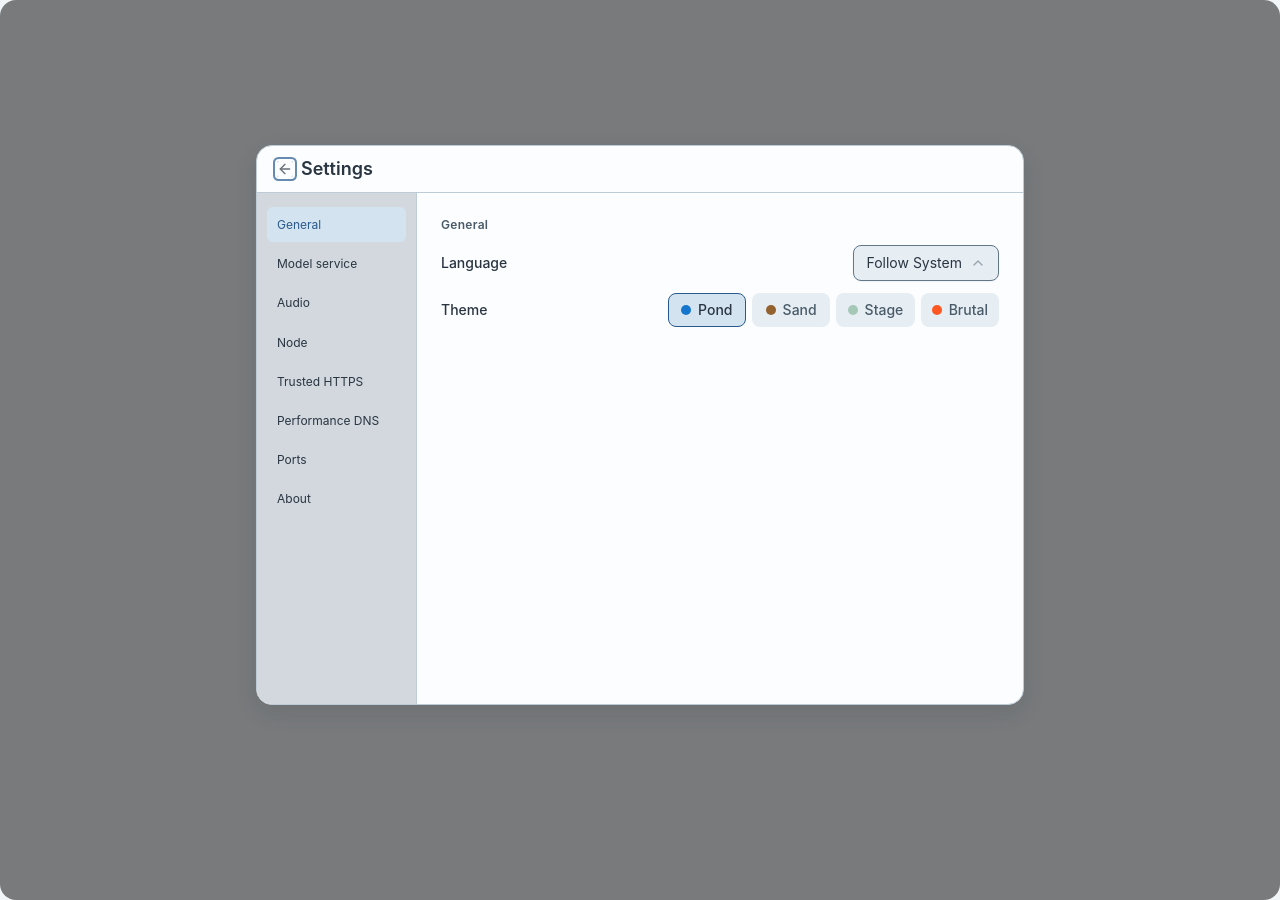
Test case: model service settings (#165) › rejects contradictory capacity before changing a key and retains correctable values
Step 1. Click the button "Model service" → (336, 264), box 267,246 -> 406,281
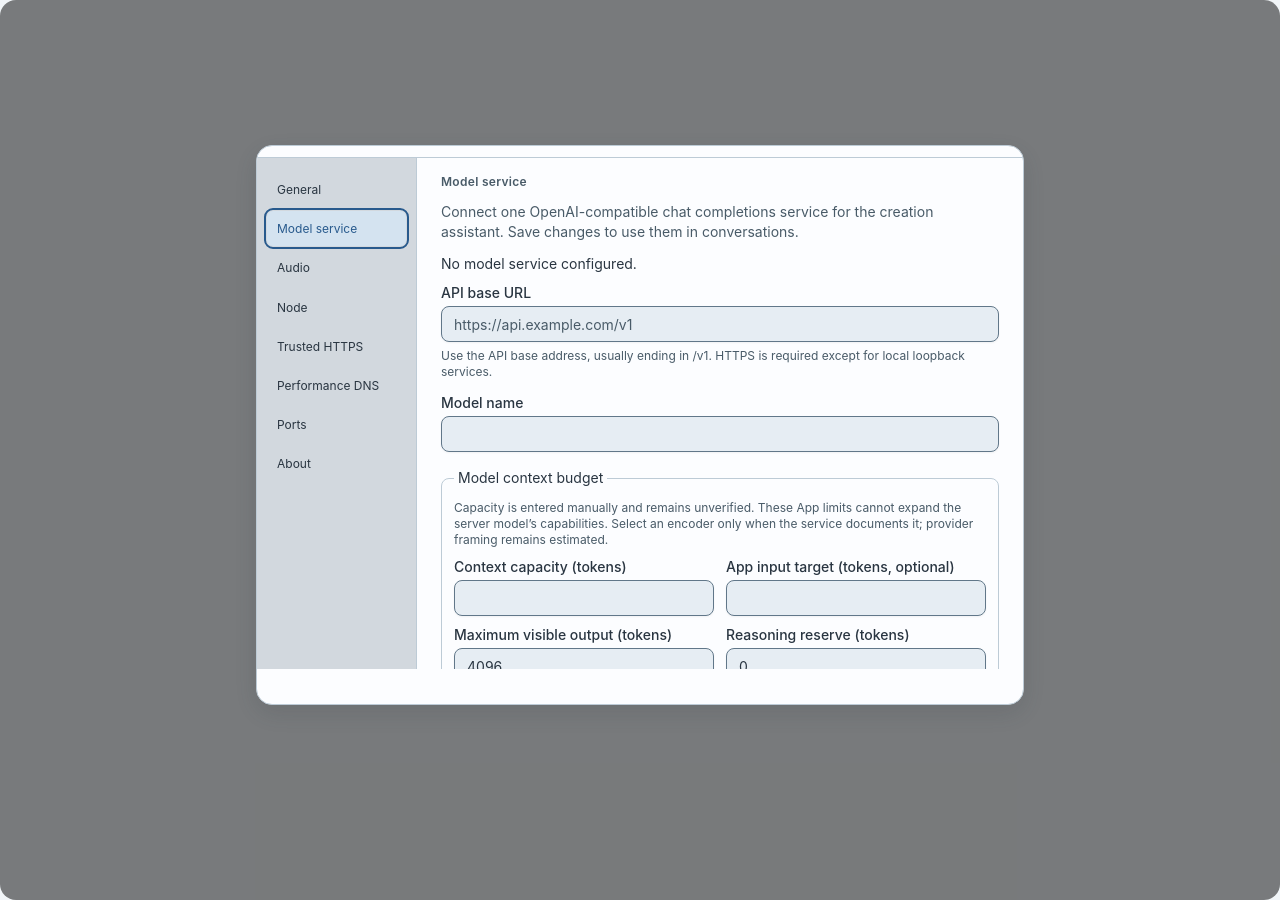
Step 2. Type "https://model.example/v1" into the field labelled "API base URL" → (720, 324), box 441,306 -> 999,342
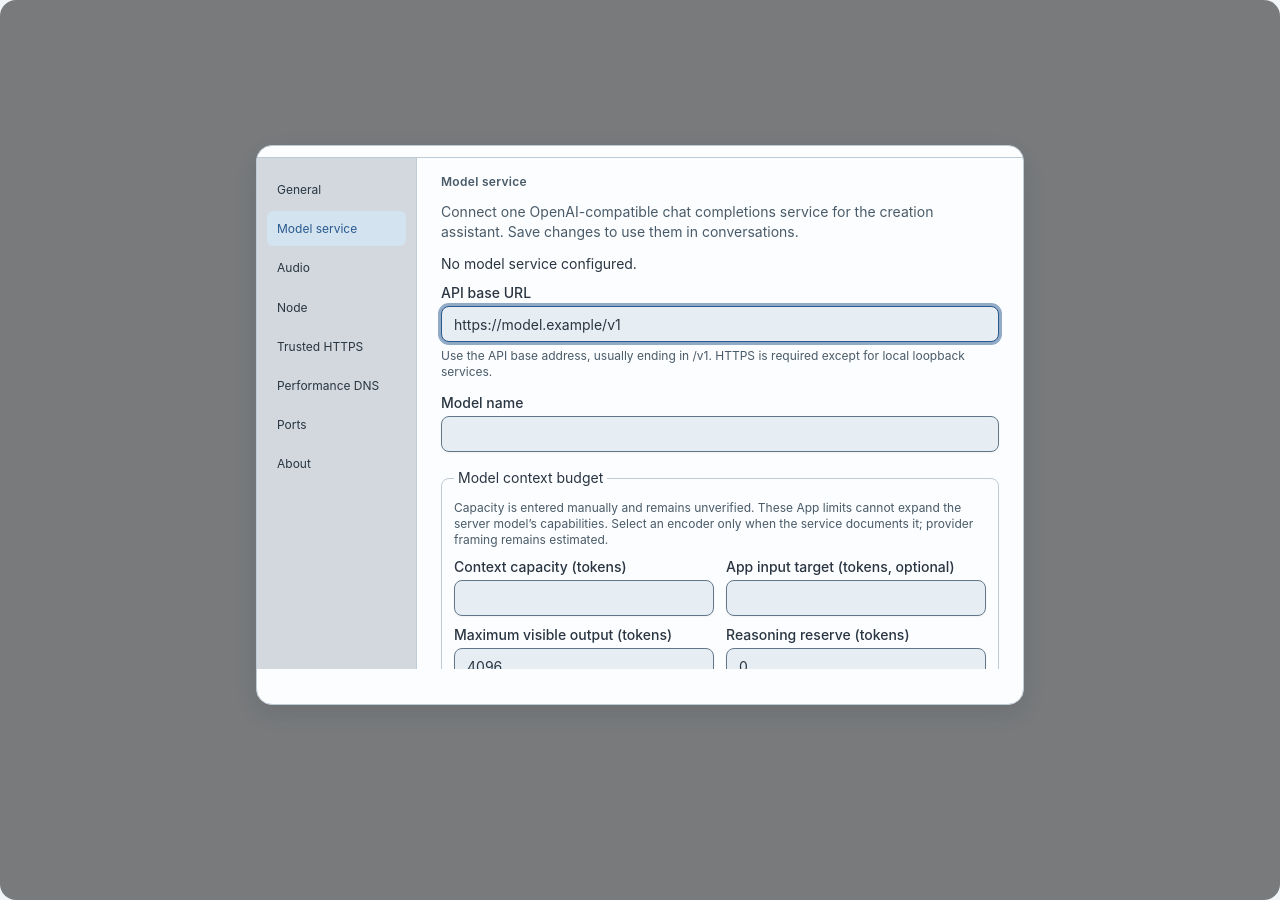
Step 3. Type "small" into the field labelled "Model name" → (720, 434), box 441,416 -> 999,452
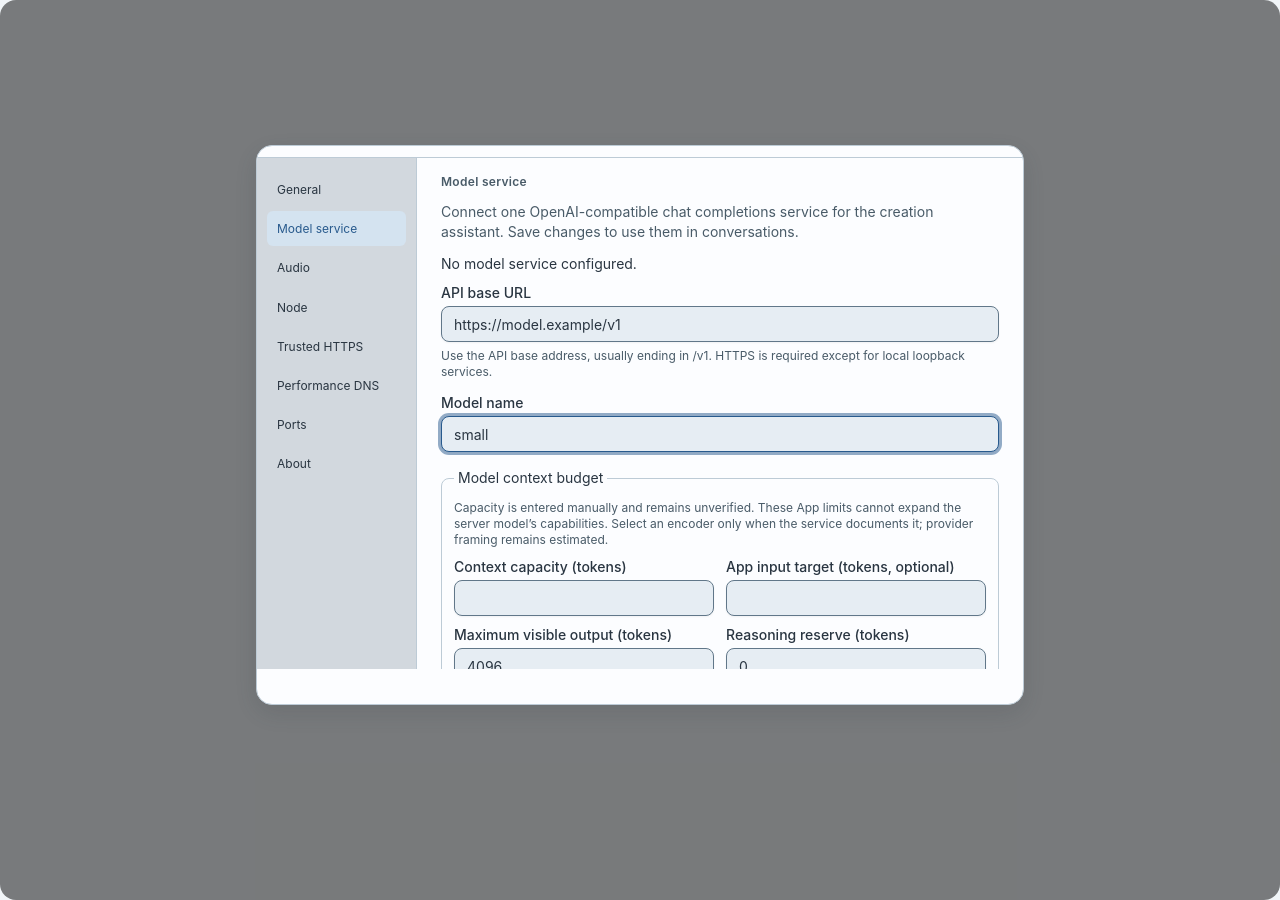
Step 4. Type "1000" into the number field labelled "Context capacity (tokens)" → (584, 598), box 454,580 -> 714,616
(page scrolled)
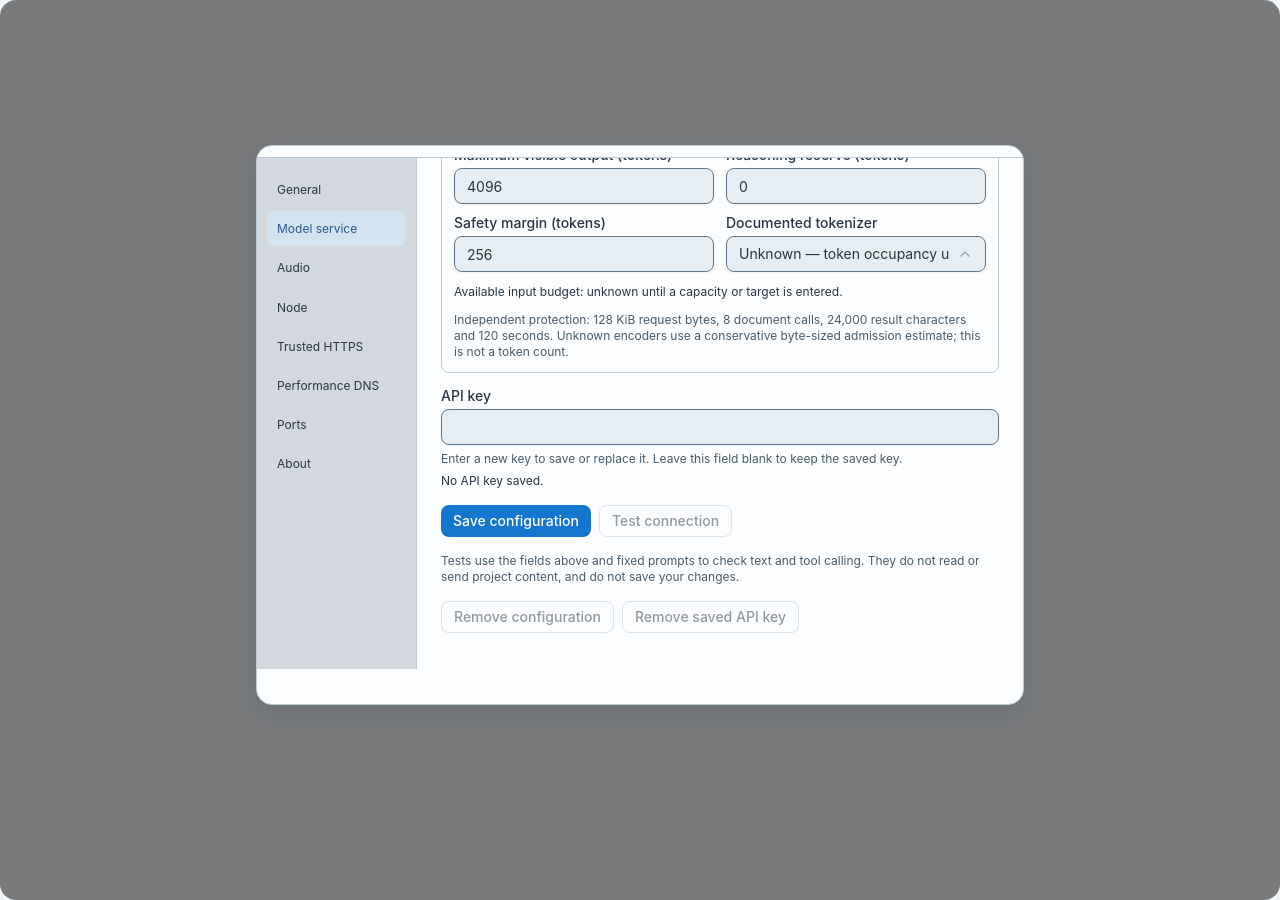
Step 5. Type "retain-key" into the password field labelled "API key" → (720, 427), box 441,409 -> 999,445
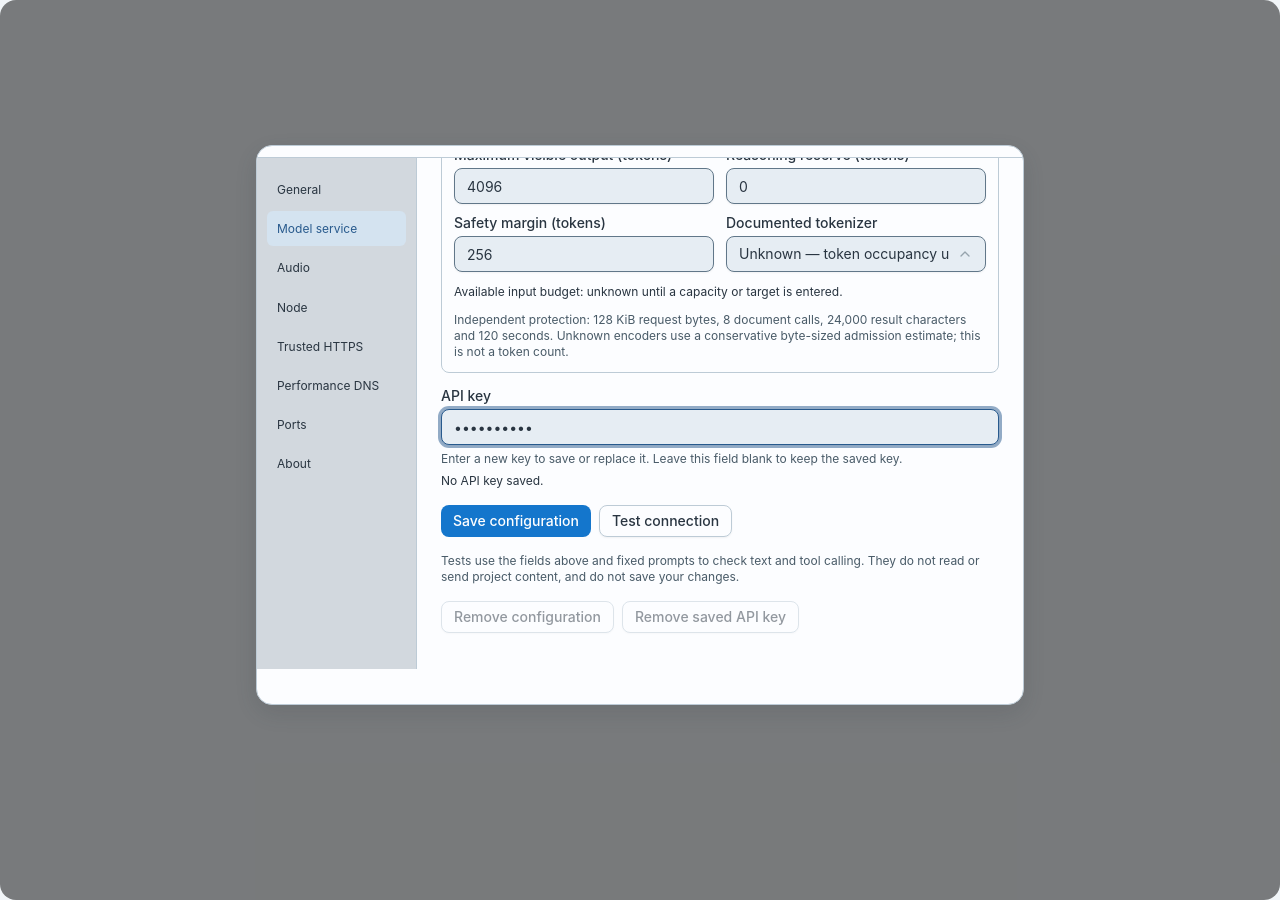
Step 6. Click the button "Save configuration" → (516, 521), box 441,505 -> 591,537
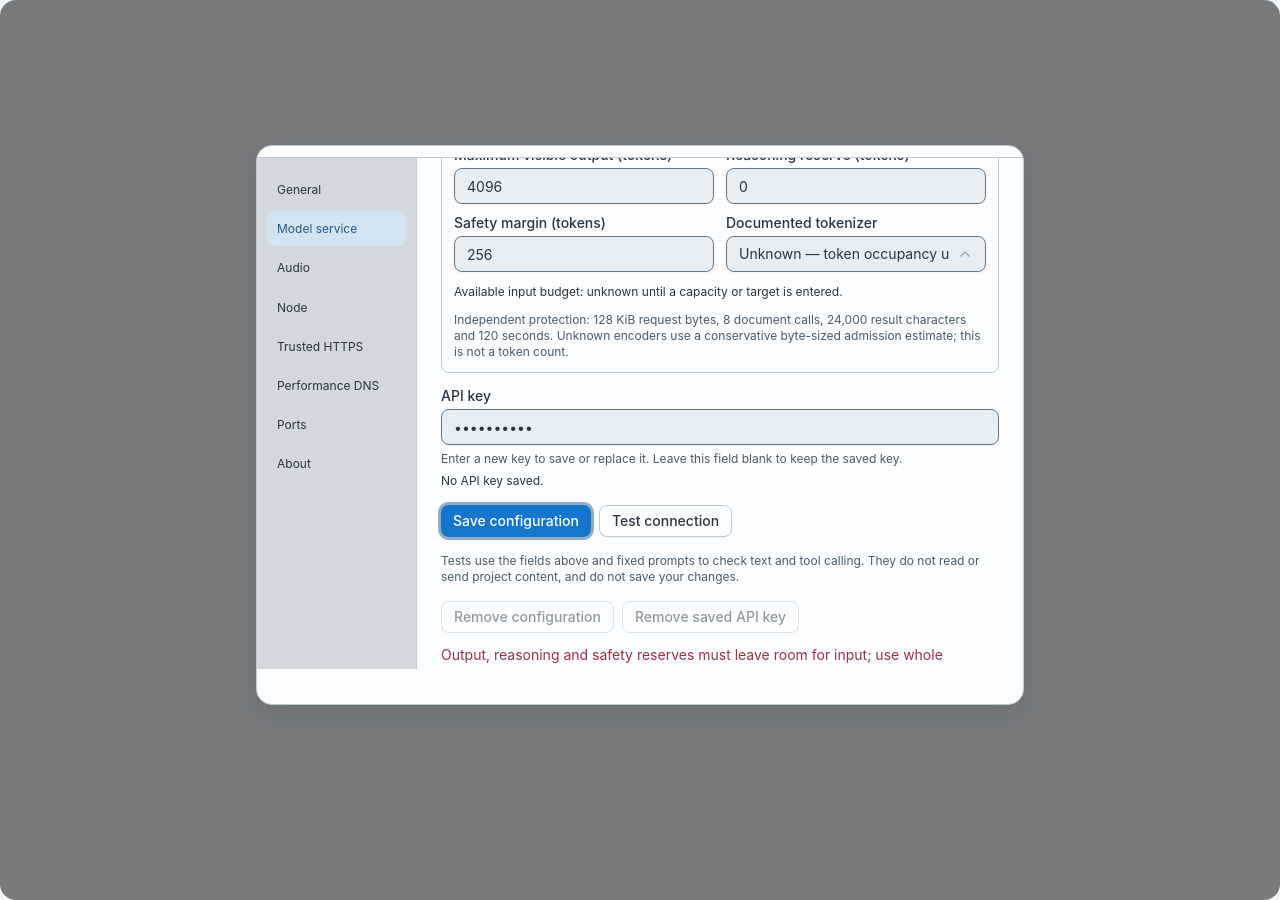
Expected: the message shows "Output, reasoning and safety reserves must leave room for input", 441,646 -> 943,669
